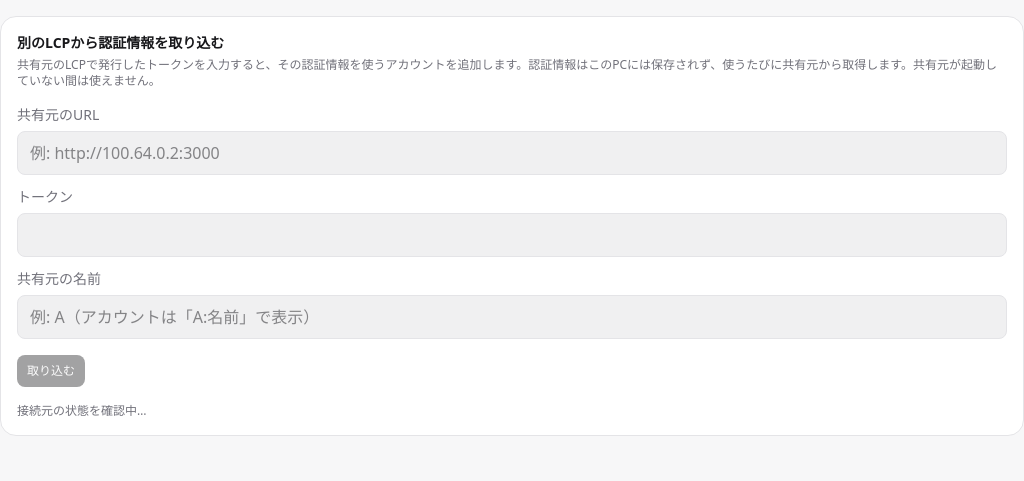
Test: PeerImportSettings › posts trimmed values, clears the token from the form and reports every created account
Type " http://100.64.0.2:3000 " into the field labelled "共有元のURL". click: (512, 153)
box: [17,131,1007,175]
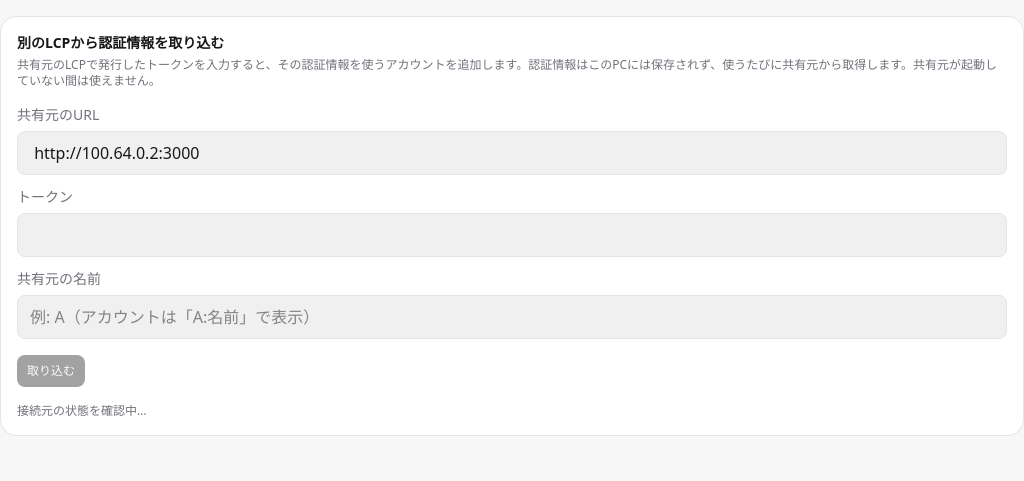
Type " TOKEN " into the password field labelled "トークン". click: (512, 235)
box: [17,213,1007,257]
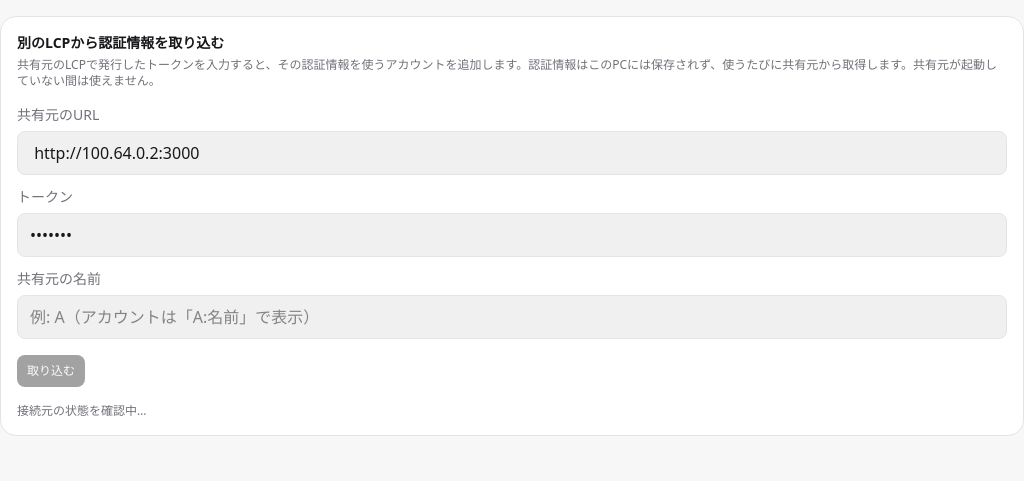
Type " main " into the field labelled "共有元の名前". click: (512, 317)
box: [17,295,1007,339]
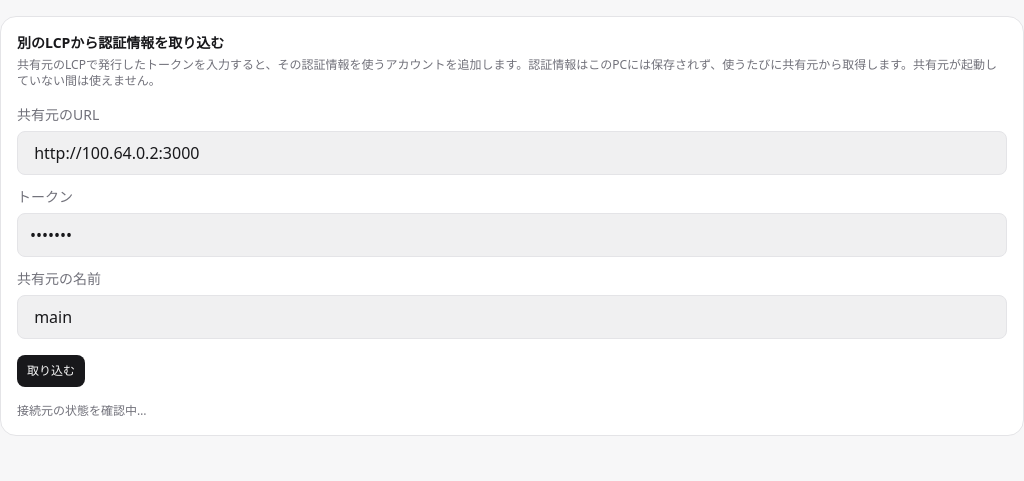
Click the button "取り込む". click: (51, 371)
box: [17,355,85,387]
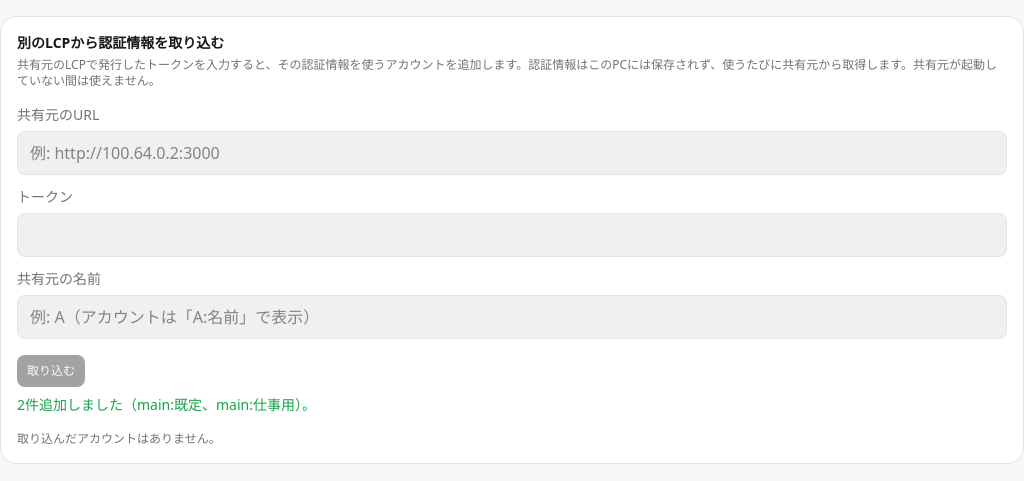
Expected: the message shows "2件追加しました（main:既定、main:仕事用）", [17,395,316,414]
Expected: the password field labelled "トークン" is empty, [17,213,1007,257]
Expected: the field labelled "共有元のURL" is empty, [17,131,1007,175]
